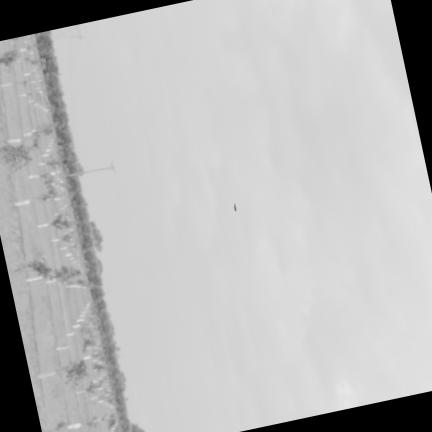Shahed: (233, 202, 237, 214)
